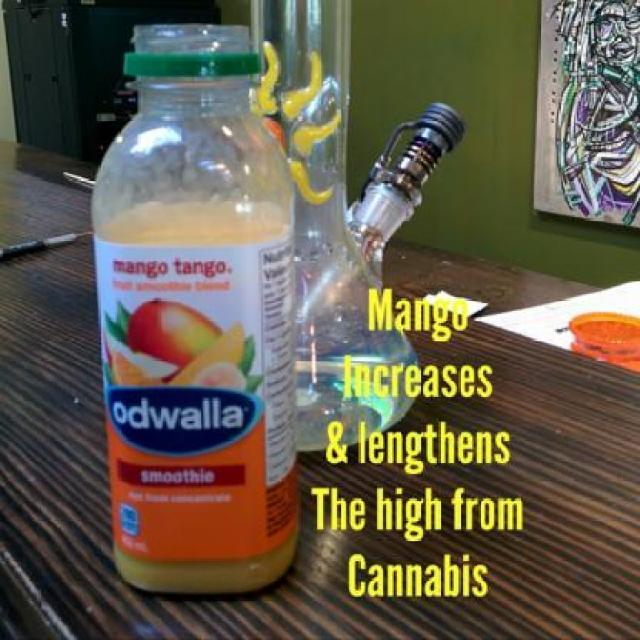Juice: (88, 131, 318, 578)
